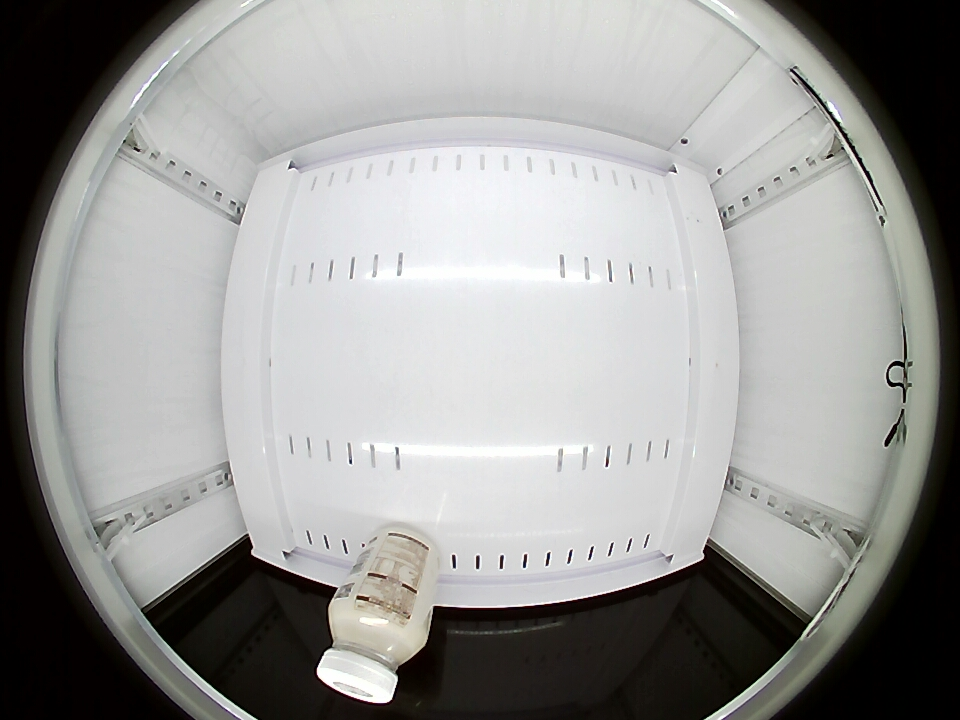weiweidounai: (317, 590, 430, 705)
